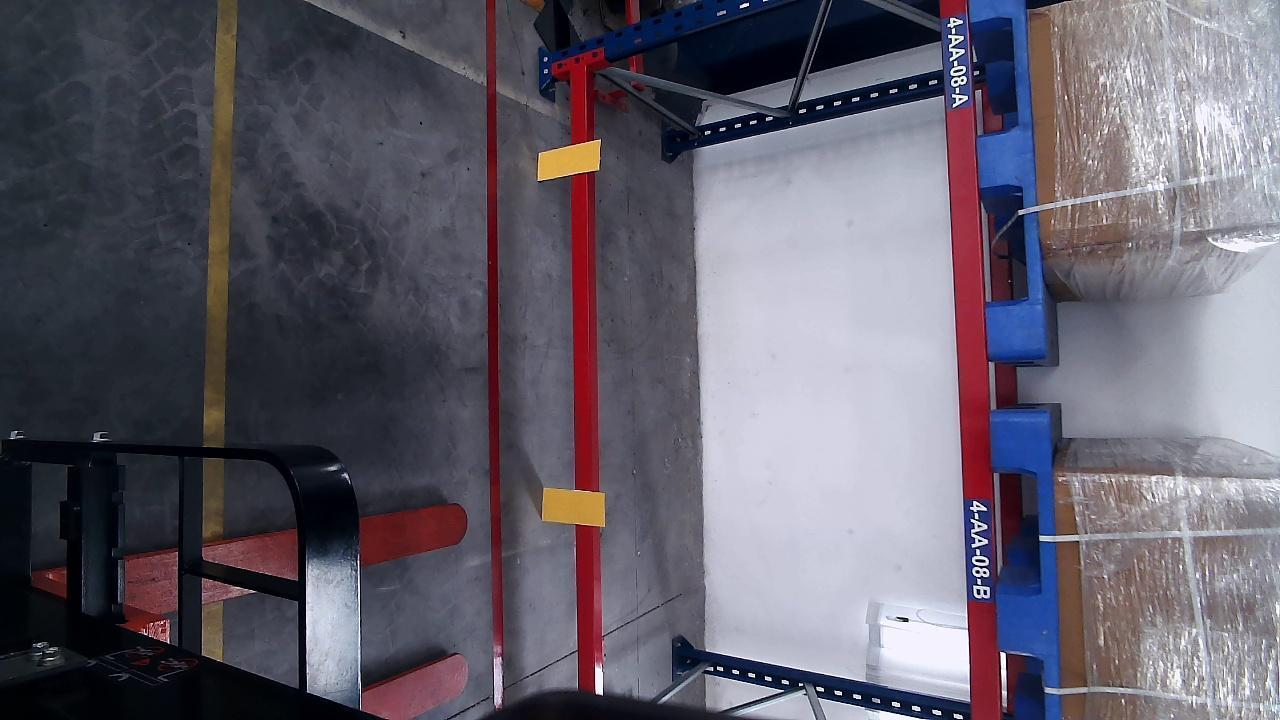red_line: (487, 2, 504, 709)
yellow_line: (204, 0, 237, 443)
